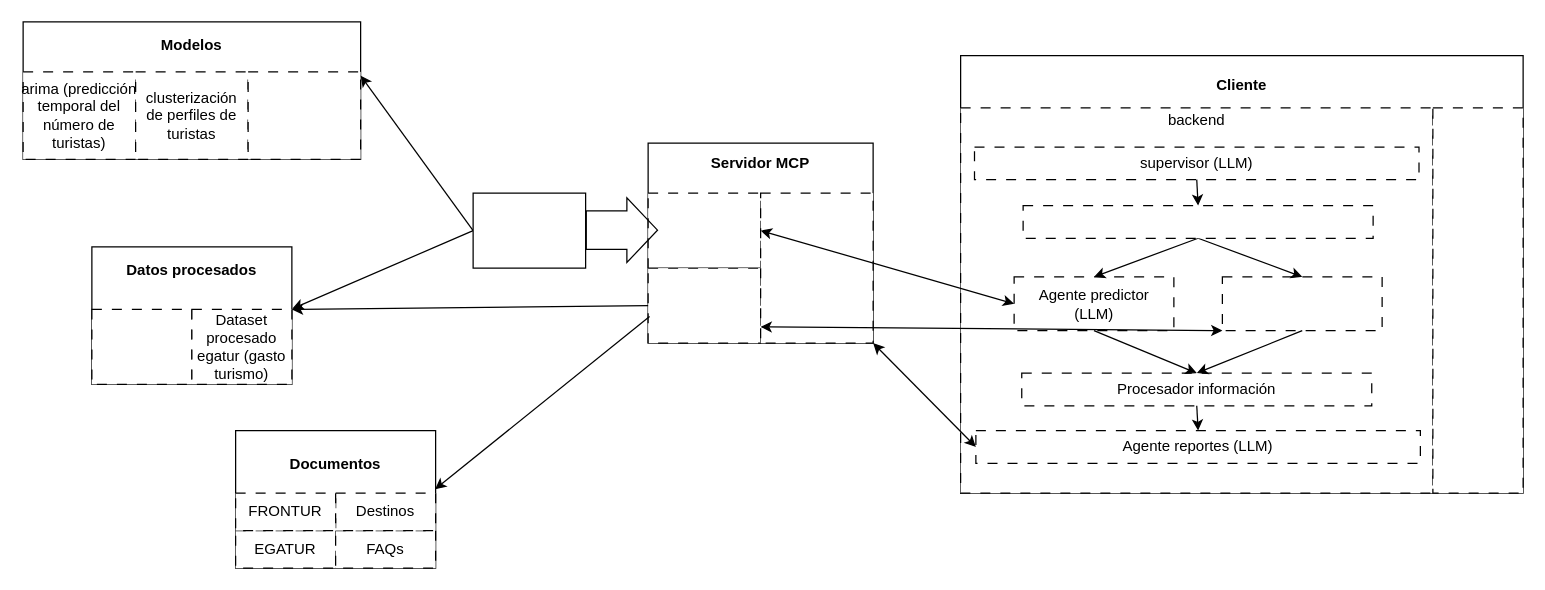
Image size: 1545x590. Some labels were removed from this diagram. The centre of each missing label's shape, as x and y in pixels:
"Agente RAG (LLM)" belongs at point (1301, 303).
"API (fastAPI)" belongs at point (529, 230).
"Despachador" belongs at point (1197, 221).
"front" belongs at point (1477, 300).
"predictor" belongs at point (704, 230).
"RAG" belongs at point (704, 305).
"regresión del gasto medio diario de turistas" belongs at point (304, 115).
"report" belongs at point (816, 267).
"Serie temporal número de turistas" belongs at point (141, 346).
